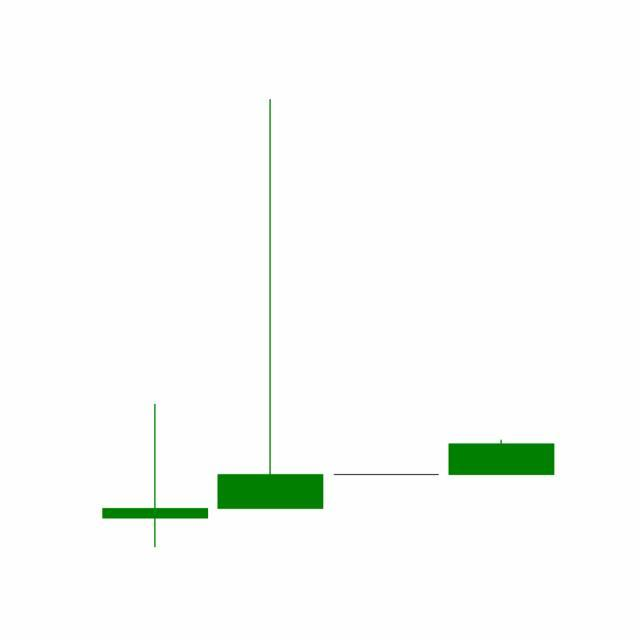Marubozu: (444, 439, 560, 476)
